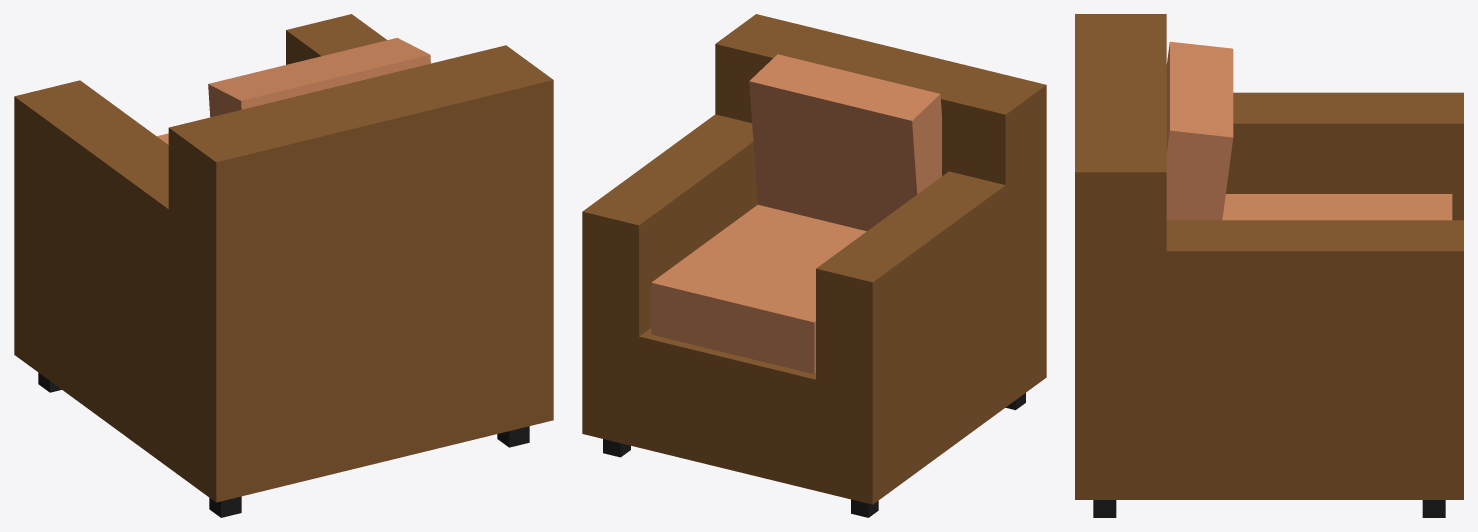
The model's file is armchair.obj.
3 views of the same model, side by side, from view 1: azimuth 30°, elevation 25°; view 2: azimuth 150°, elevation 25°; view 3: azimuth 270°, elevation 25° (orthographic). The views are drawn at different scales.
Parts seen in each view (by area): view 1: armchair_5, armchair_0, armchair_6, armchair_9, armchair_7; view 2: armchair_0, armchair_6, armchair_9, armchair_5, armchair_7, armchair_8; view 3: armchair_7, armchair_0, armchair_5, armchair_6, armchair_9, armchair_8.
Boxes of the visible parts, left/top/right/bottom form: armchair_5: left=168, top=45, right=553, bottom=377; armchair_0: left=14, top=226, right=553, bottom=502; armchair_6: left=14, top=80, right=281, bottom=381; armchair_9: left=208, top=38, right=430, bottom=117; armchair_7: left=286, top=14, right=553, bottom=313; armchair_0: left=582, top=266, right=1046, bottom=504; armchair_6: left=816, top=156, right=1046, bottom=400; armchair_9: left=749, top=54, right=941, bottom=231; armchair_5: left=715, top=14, right=1046, bottom=299; armchair_7: left=582, top=114, right=757, bottom=343; armchair_8: left=651, top=205, right=866, bottom=373; armchair_7: left=1075, top=220, right=1463, bottom=383; armchair_0: left=1075, top=375, right=1463, bottom=499; armchair_5: left=1075, top=14, right=1166, bottom=379; armchair_6: left=1226, top=92, right=1463, bottom=220; armchair_9: left=1166, top=41, right=1233, bottom=220; armchair_8: left=1222, top=194, right=1452, bottom=220.
Size of the model in its own units: 0.82 by 0.8671 by 0.85.
